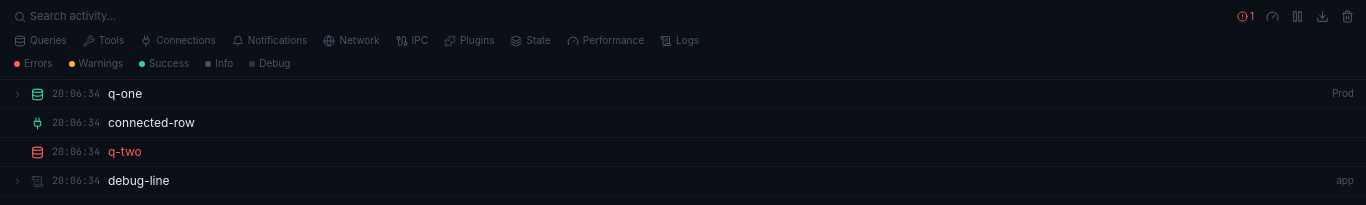
Test: ActivityList › filters by kind when a chip is clicked
Click the button titled "Connections": (178, 40) [134, 31, 222, 50]
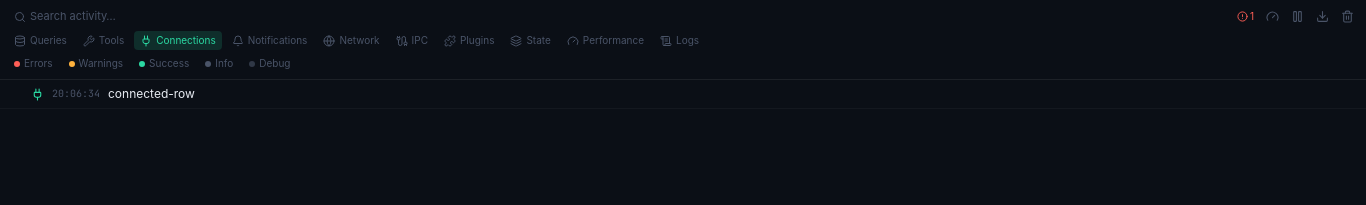
Expected: the text "connected-row" is shown, [108, 86, 195, 101]
Now the text "q-one" is gone
Now the text "debug-line" is gone
